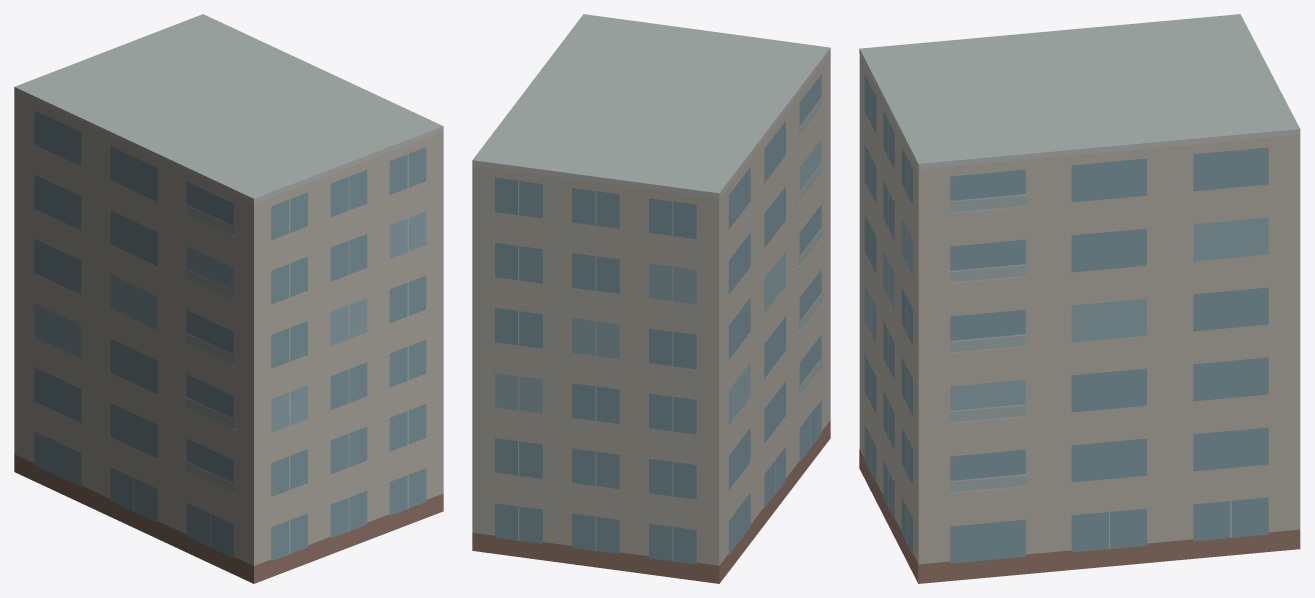
File: survey-upis-33040935.glb
3 views of the same model, side by side, from view 1: azimuth 30°, elevation 25°; view 2: azimuth 150°, elevation 25°; view 3: azimuth 270°, elevation 25° (orthographic). The views are drawn at different scales.
Visible parts, largest first — view 1: survey-upis-33040935.tmp; view 2: survey-upis-33040935.tmp; view 3: survey-upis-33040935.tmp.
Boxes of the visible parts, x1,y1,x2,y2 form: survey-upis-33040935.tmp: [14, 14, 443, 583]; survey-upis-33040935.tmp: [472, 14, 830, 583]; survey-upis-33040935.tmp: [859, 14, 1300, 583].
Size of the model in its own units: 14.01 by 18.3 by 17.41.
